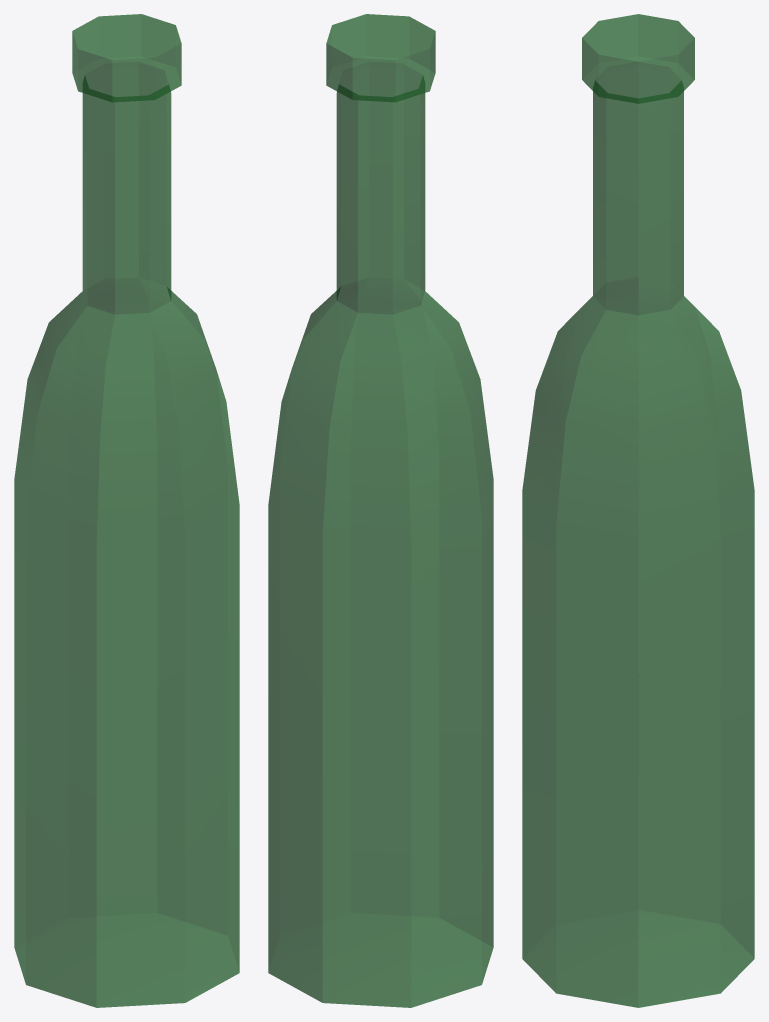
3 views of the same model, side by side, from view 1: azimuth 30°, elevation 25°; view 2: azimuth 150°, elevation 25°; view 3: azimuth 270°, elevation 25° (orthographic).
Parts seen in each view (by area): view 1: 円柱; view 2: 円柱; view 3: 円柱.
Part boxes in pixels (x1,y1,x2,y2): 円柱: [14, 14, 239, 1007]; 円柱: [268, 14, 493, 1007]; 円柱: [522, 14, 754, 1007].
Size of the model in its own units: 0.0709 by 0.3097 by 0.0709.
Materials: 1 (1 with a texture image).
